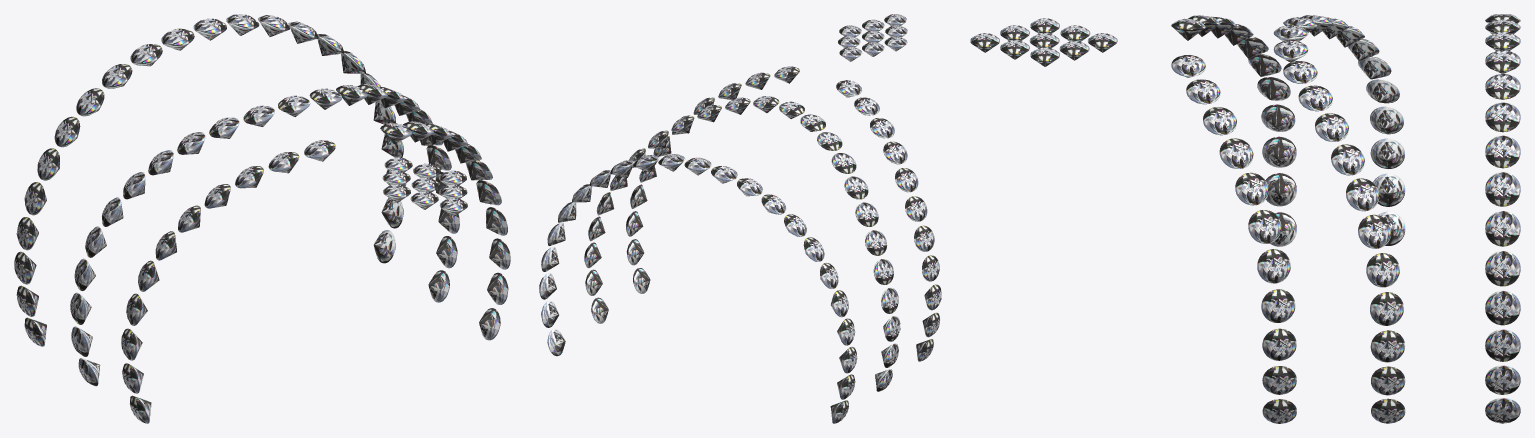
3 renders of one model, left to right at view 1: azimuth 30°, elevation 25°; view 2: azimuth 150°, elevation 25°; view 3: azimuth 270°, elevation 25°, orthographic. The views are drawn at different scales.
Visible parts, largest first — view 1: Layer 05; view 2: Layer 05; view 3: Layer 05.
Boxes of the visible parts, bbox=[...] form: Layer 05: bbox=[14, 14, 510, 423]; Layer 05: bbox=[539, 14, 941, 423]; Layer 05: bbox=[970, 14, 1520, 423].
Bounding box in the file's own units: 20.42 × 23.94 × 14.38.
1 material, 1 textured.
